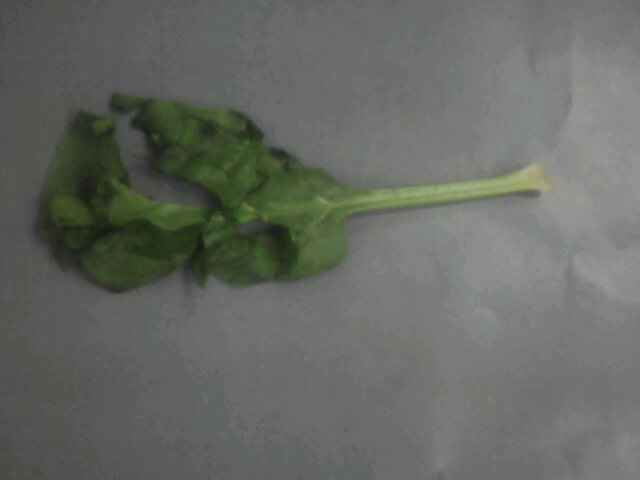yellow: (24, 83, 391, 313)
